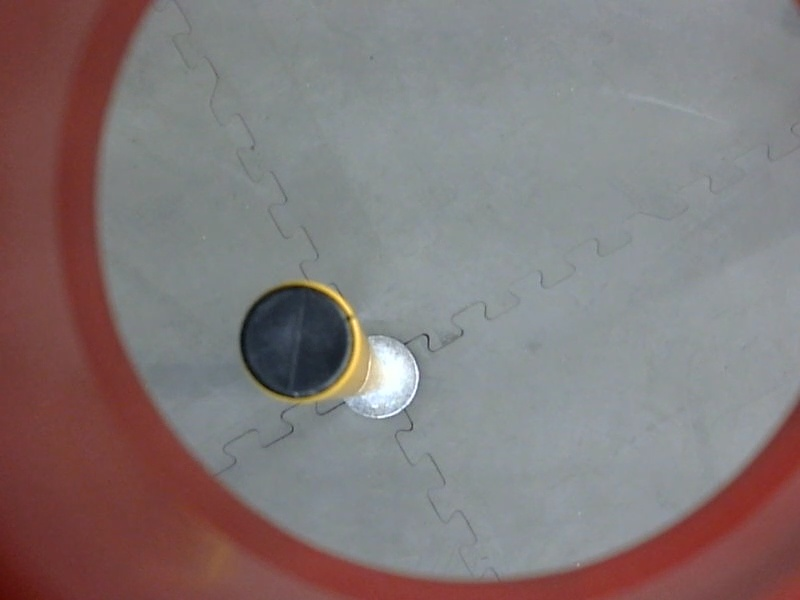tip: (233, 273, 371, 412)
